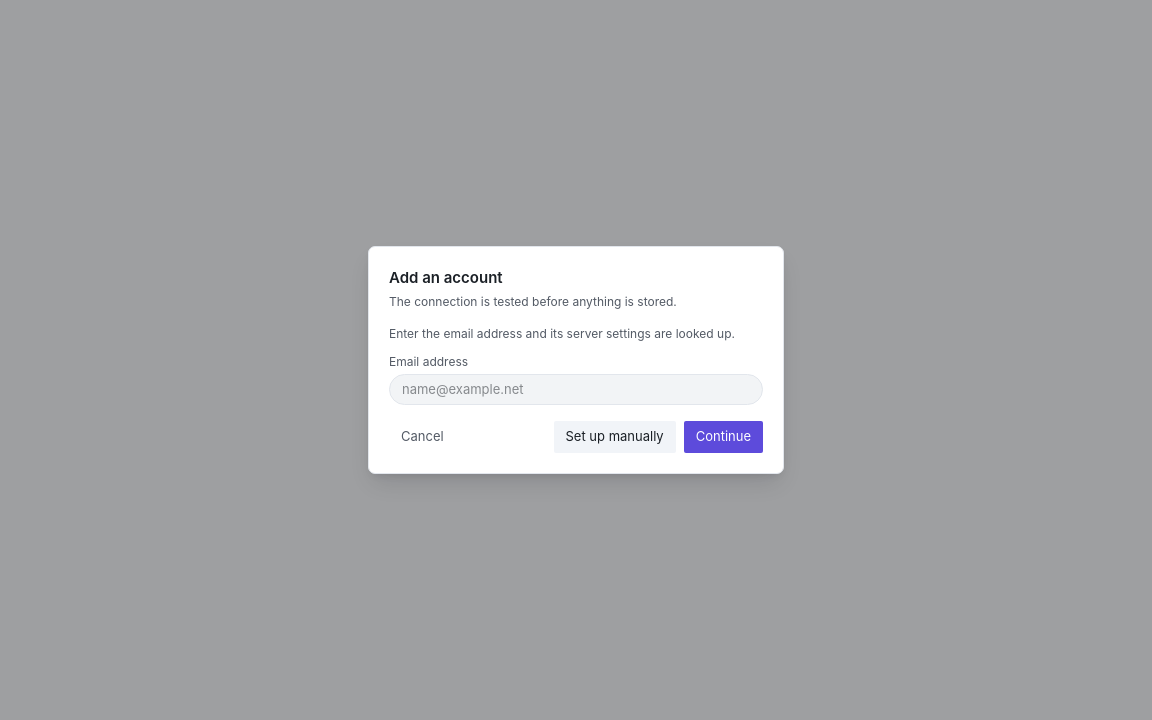
Scenario: the account discovery step › maps a start_tls recommendation onto the form it prefills
In the field labelled "Email address": (576, 389) [389,374,763,405], type "user@example.test"
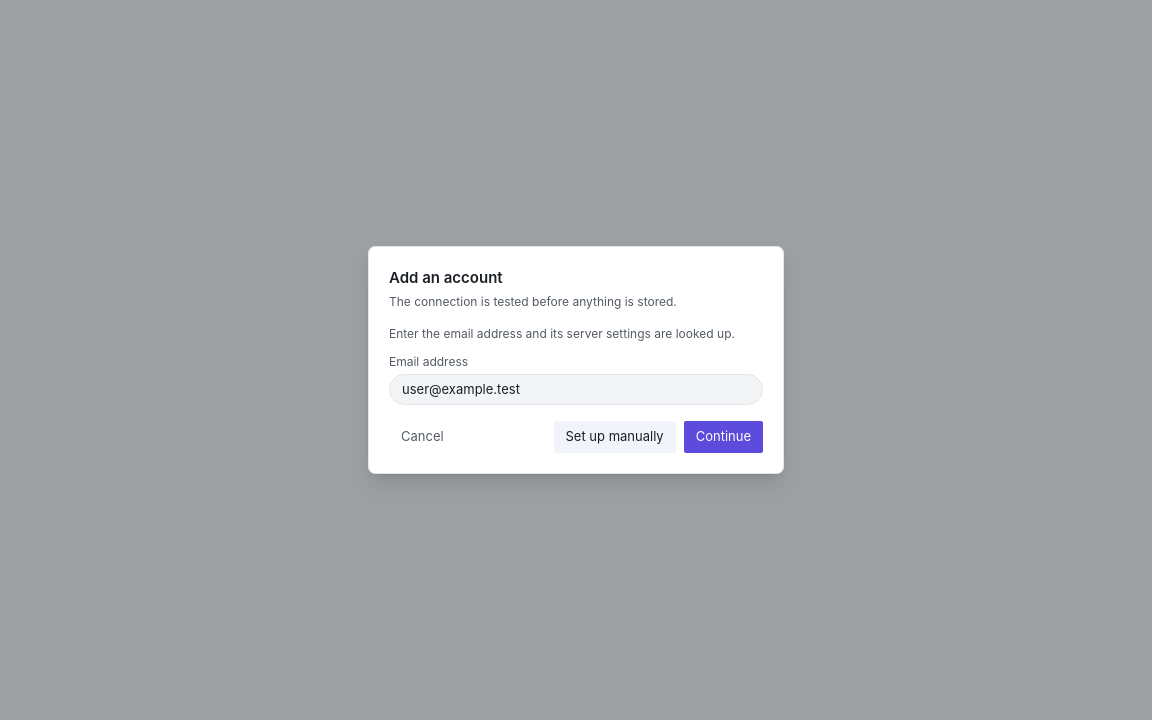
Click the button "Continue": click(723, 437) [684,421,763,453]
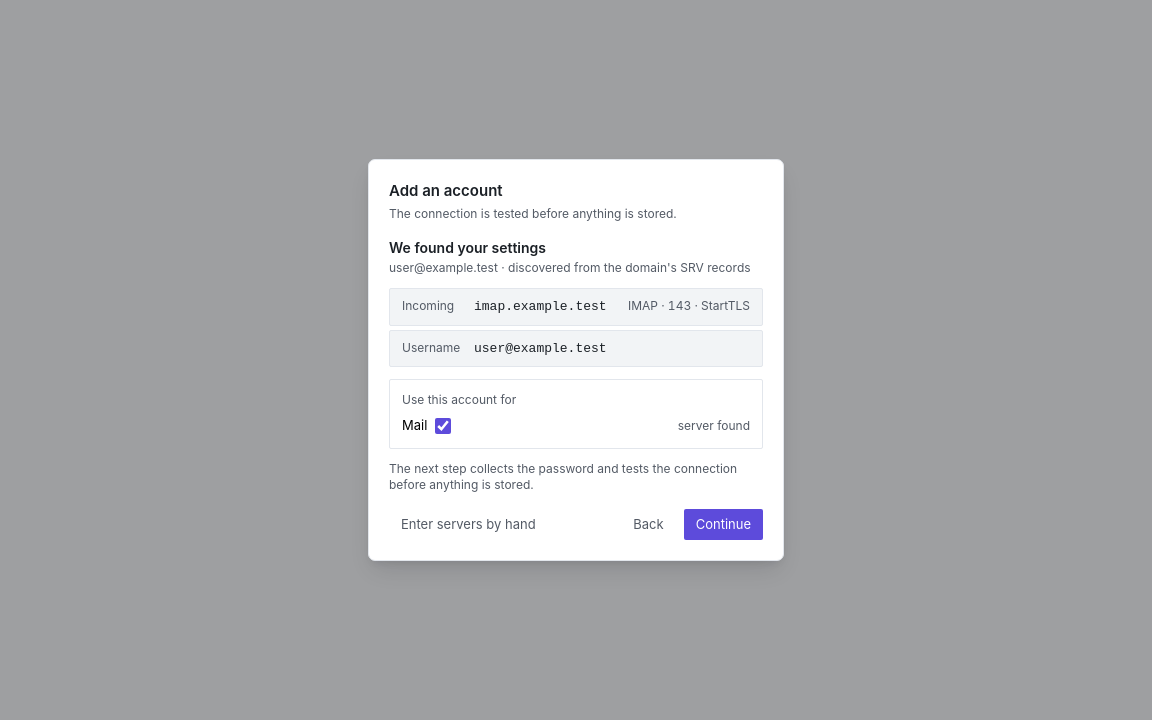
Now the button "Back" is shown, box [621,509,676,540]
Click the button "Continue": click(723, 525) [684,509,763,540]
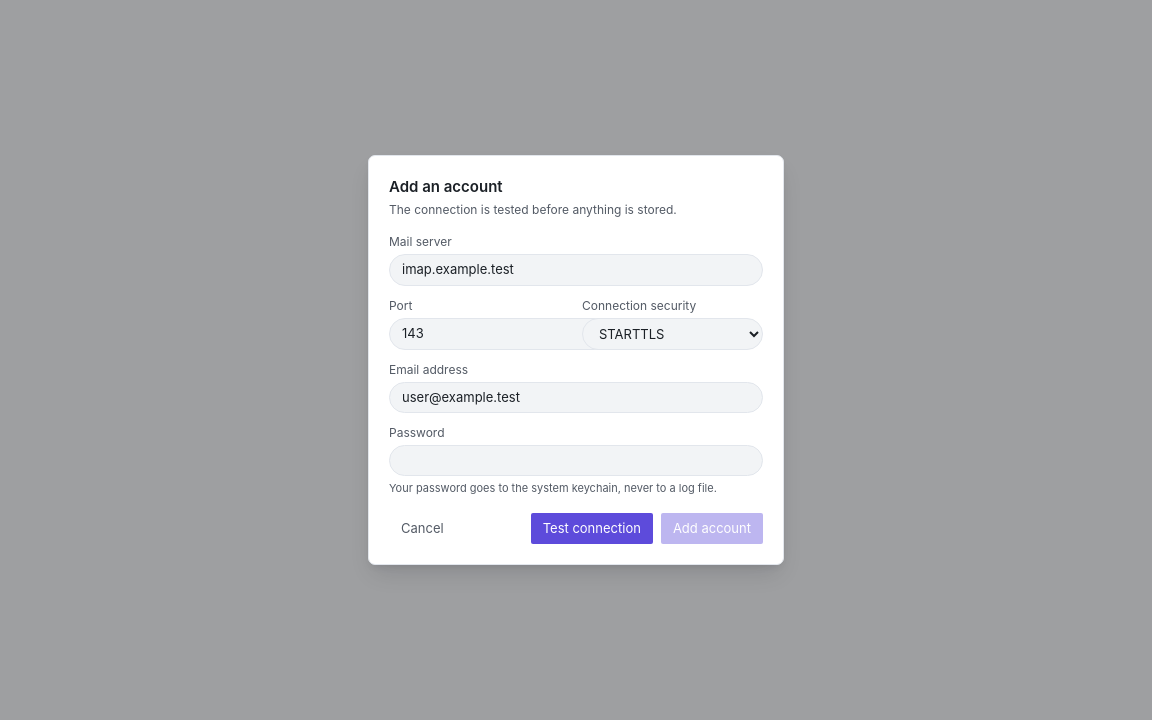
Now the field labelled "Port" holds "143", box [389,318,617,350]
Now the dropdown labelled "Connection security" shows "STARTTLS", box [582,318,763,350]
